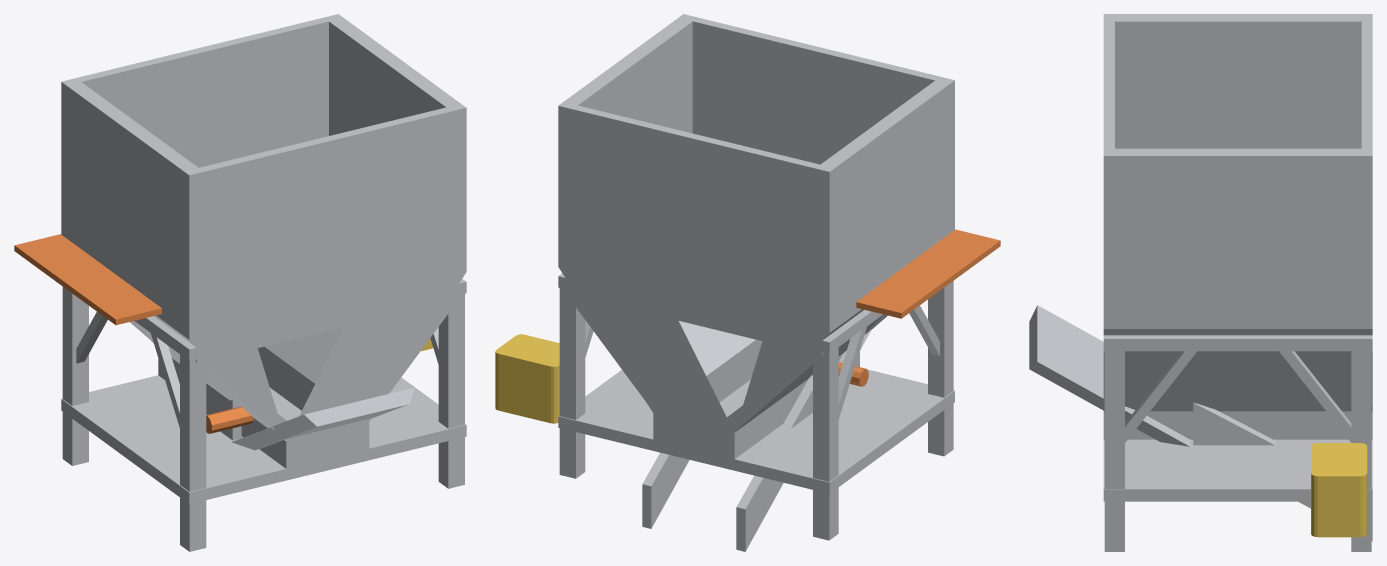
The model's file is underground-mine-and-shaft-works-loading-pocket-25a8fd0a.glb.
3 renders of one model, left to right at view 1: azimuth 30°, elevation 25°; view 2: azimuth 150°, elevation 25°; view 3: azimuth 270°, elevation 25°, orthographic. The views are drawn at different scales.
Visible parts, largest first — view 1: loading-pocket; view 2: loading-pocket; view 3: loading-pocket.
Part boxes in pixels (<box>): loading-pocket: <box>14,14,466,551</box>; loading-pocket: <box>495,14,1000,551</box>; loading-pocket: <box>1029,14,1372,551</box>.
Size of the model in its own units: 4.4 by 4.23 by 3.06.
